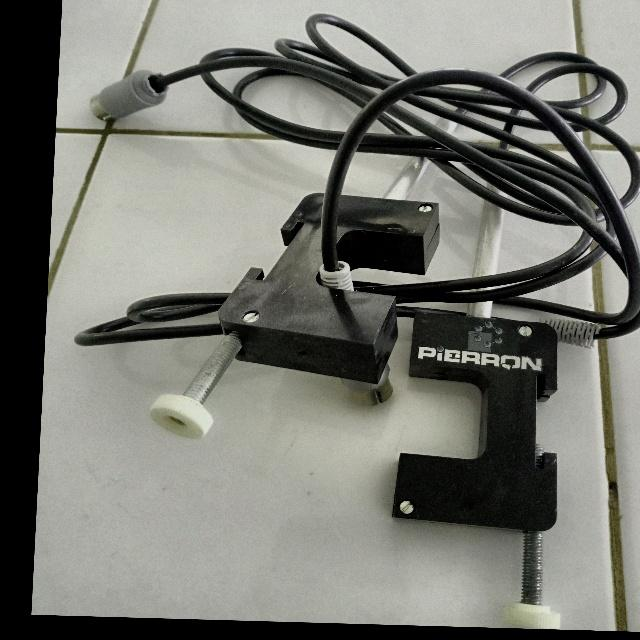Bulb Socket: (72, 22, 640, 444)
